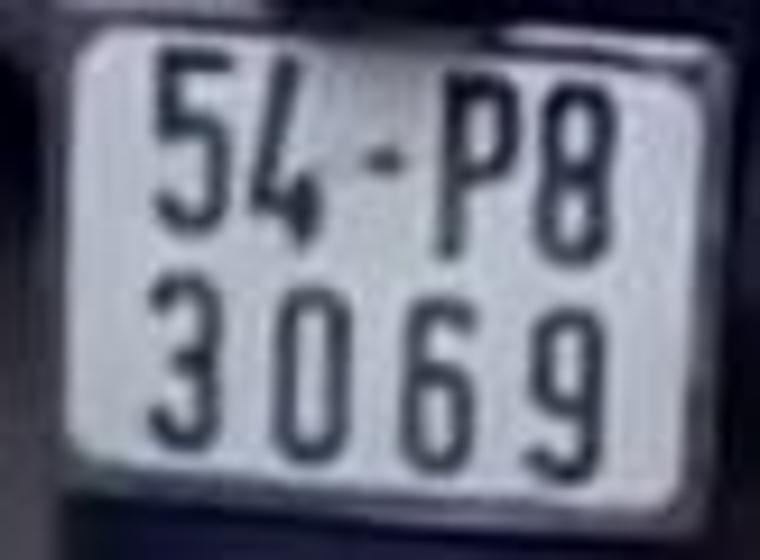0: (273, 283, 351, 460)
3: (143, 273, 220, 452)
4: (251, 57, 317, 240)
5: (151, 45, 231, 239)
6: (400, 298, 475, 480)
8: (534, 82, 614, 263)
9: (517, 306, 605, 480)
P: (439, 66, 515, 255), (358, 139, 402, 174)
